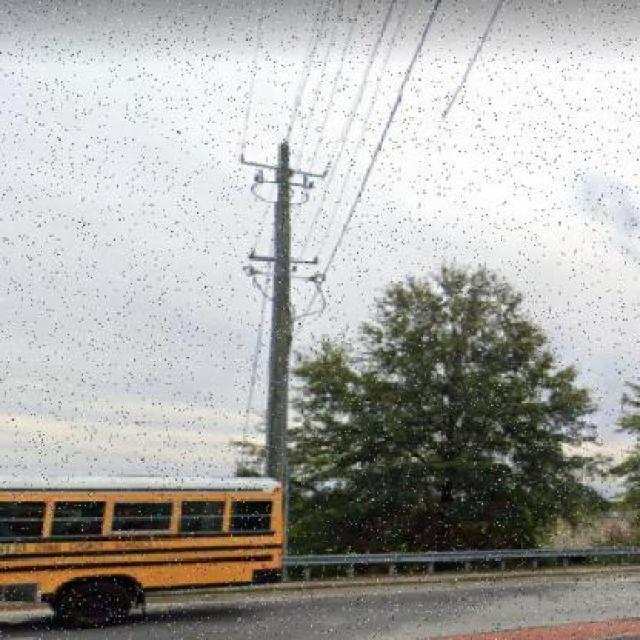pole: (191, 101, 354, 605)
